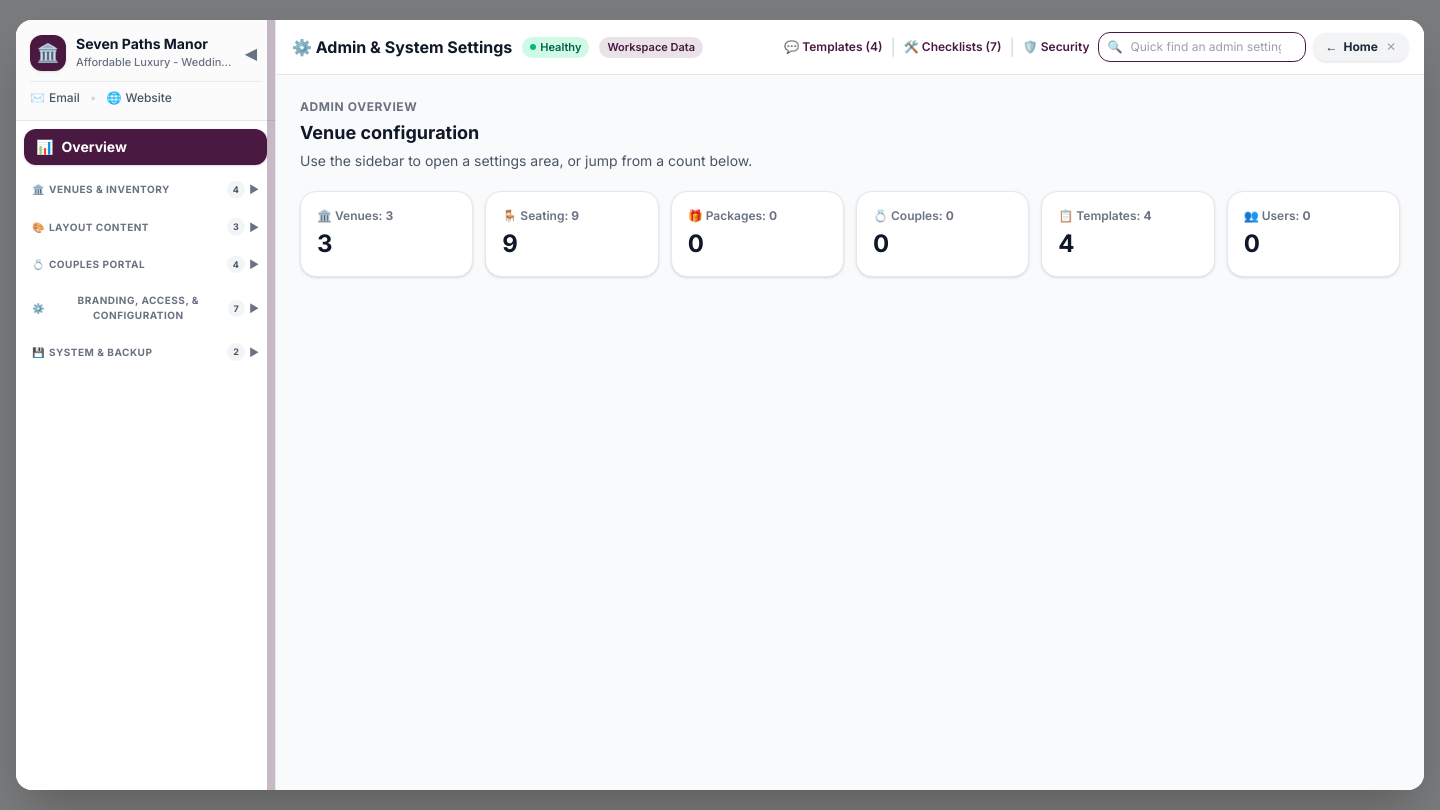
it: AdminPanel Tables/Seating tab › exposes Spacing as its own section under the Layout Content category
The width and height of the screenshot is (1440, 810).
Expand the Layout Content dropdown, then open Spacing.
Click the button "🎨 Layout Content 3 ▶".
click(146, 227)  # box [24,214,267,240]
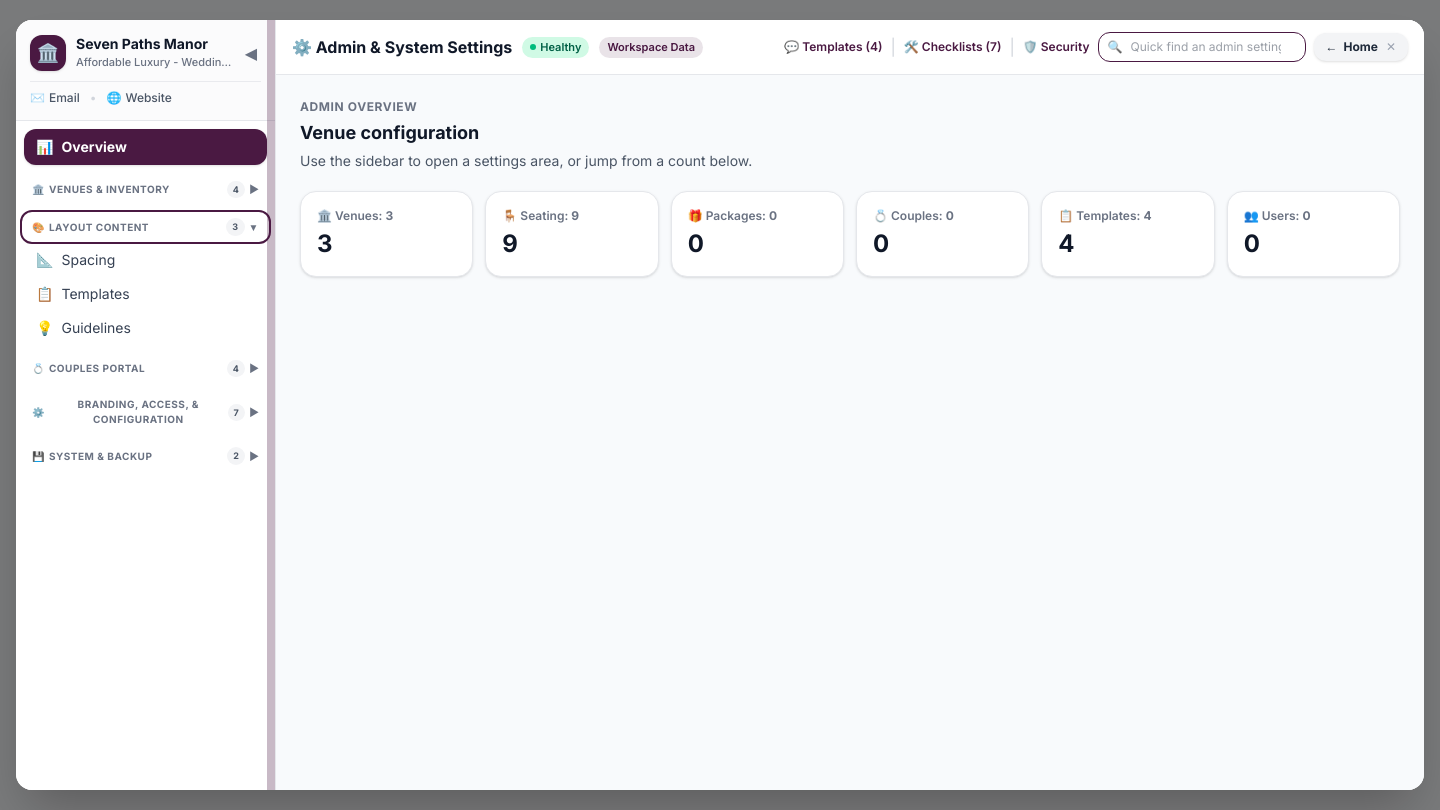
Click the button "📐 Spacing".
click(146, 260)  # box [24,244,267,276]
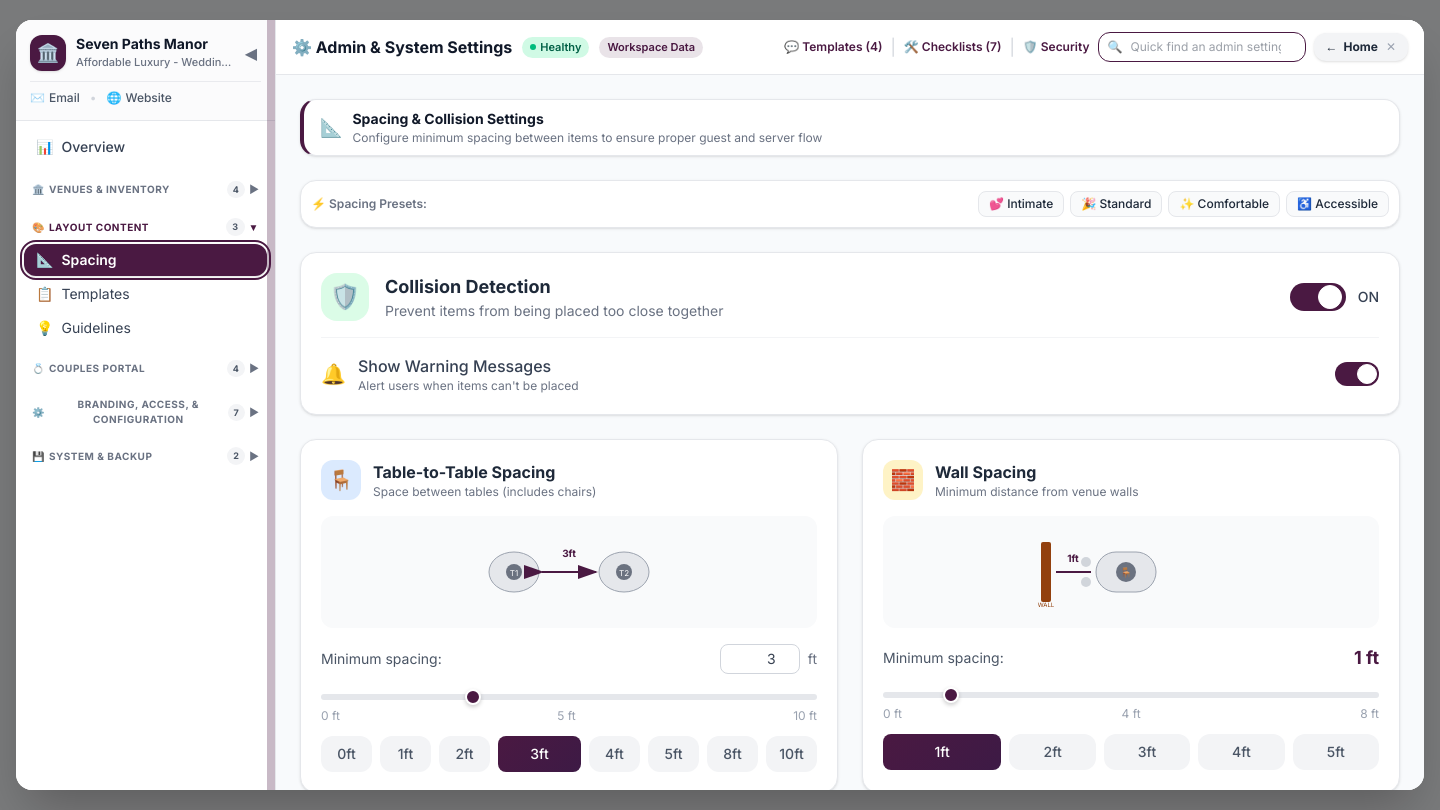
Expected: the button "📐 Spacing" is shown, [24,244,267,276]
Expected: the heading "Spacing & Collision Settings" is shown, [352,110,544,127]
